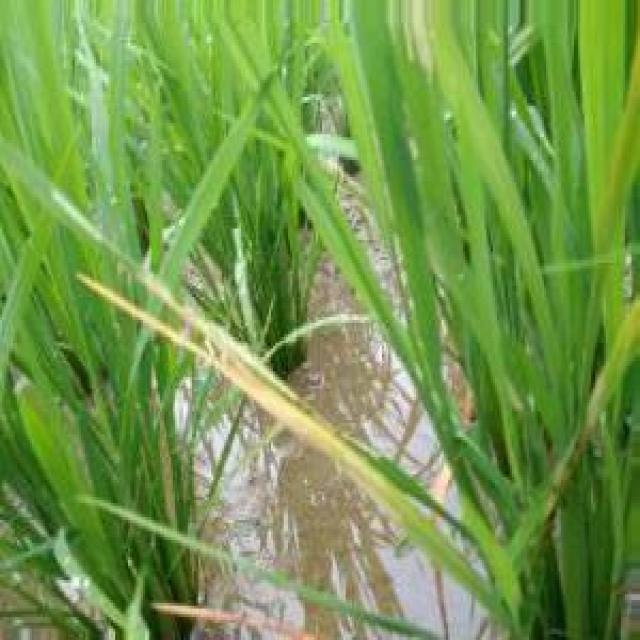Rice Tungro: (79, 275, 296, 433)
